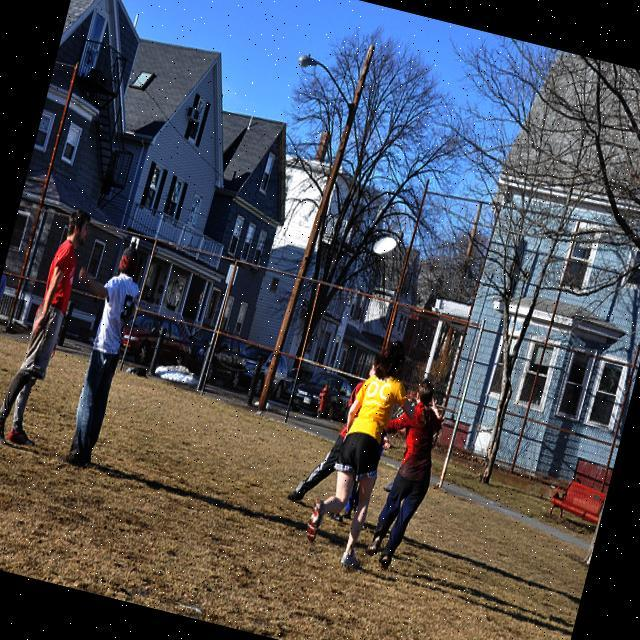fire_hydrant: (313, 382, 329, 417)
